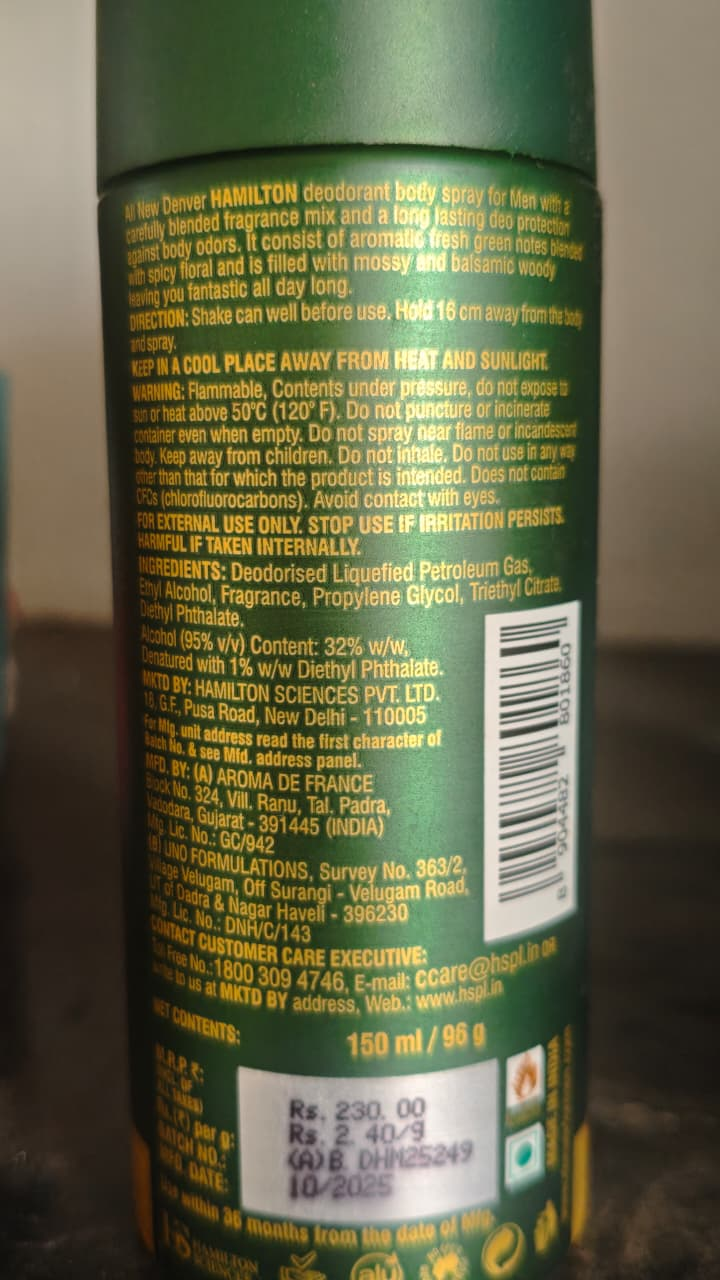EXP_Date: (192, 1199, 494, 1251)
Ingredients: (114, 554, 504, 683)
MFG_Date: (283, 1174, 414, 1213)
MRP: (282, 1090, 438, 1126)
